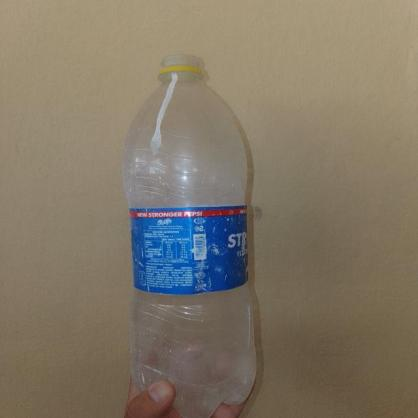bottle: (107, 47, 275, 418)
label: (123, 204, 259, 298)
